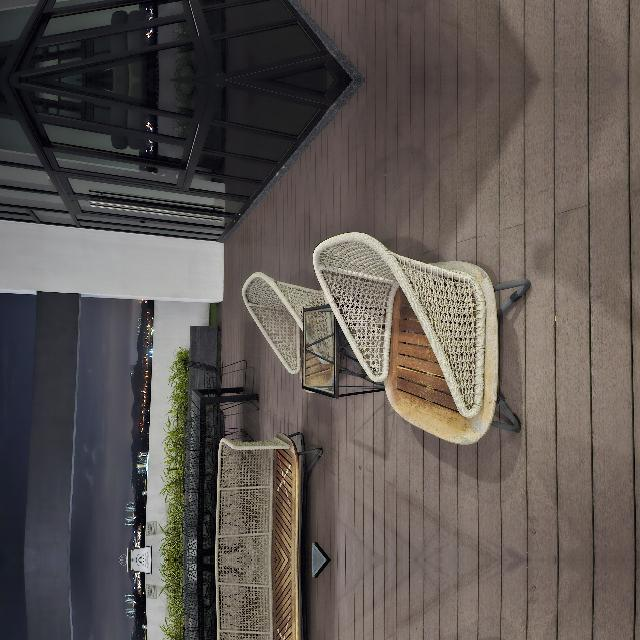obstacle: (132, 327, 330, 613), (131, 507, 330, 640), (0, 294, 130, 406), (135, 259, 177, 333), (189, 268, 237, 304)
